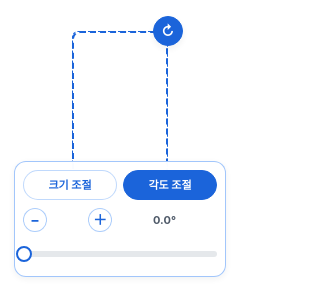
DesignStage › switches popup tab to scale controls
This screenshot has width=320, height=294.
Click the element with test id "adjust-tab-scale" at (70, 185), box [23,170,117,200]
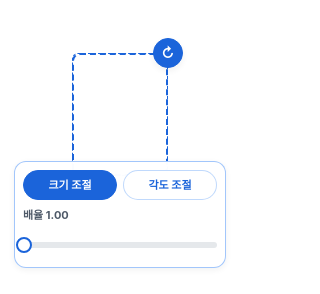
Check: the text "크기 조절" is shown, box [48,178,92,192]
Check: the text "배율 1.00" is shown, box [23,208,69,222]
